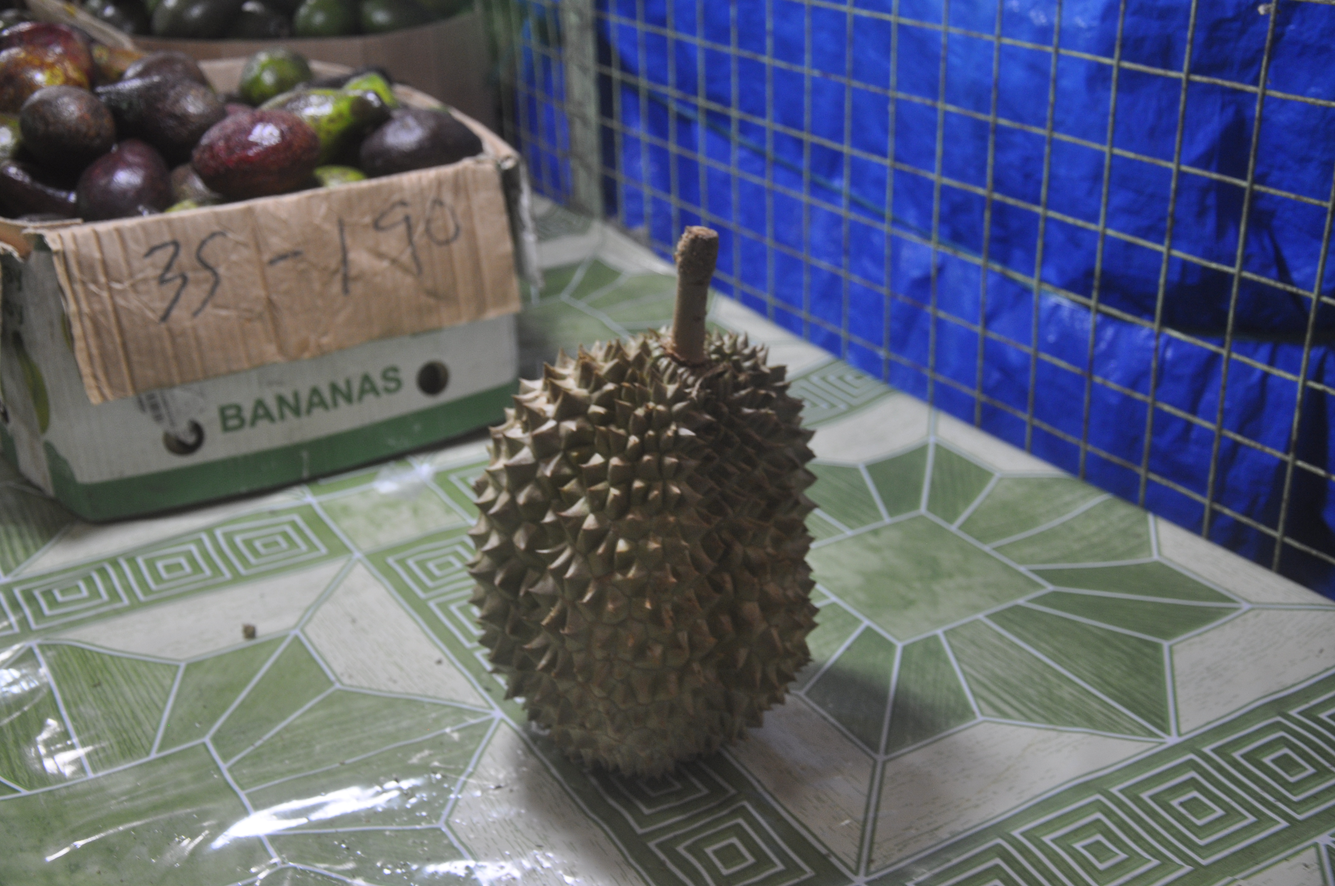mature: (468, 227, 818, 793)
